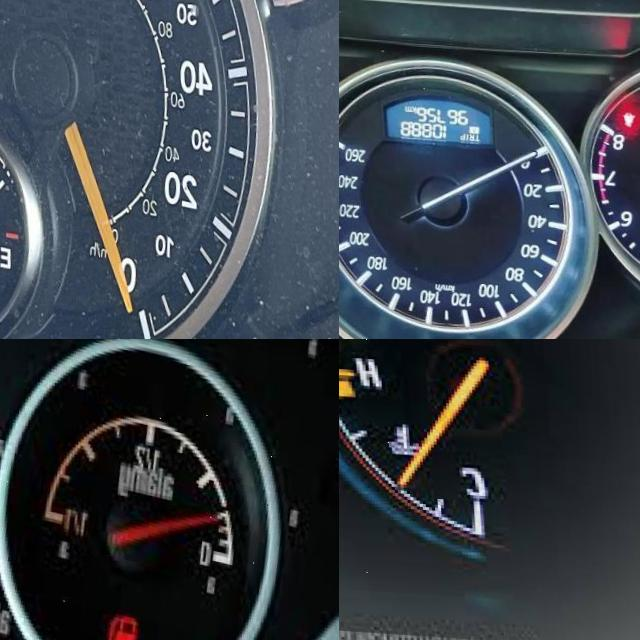Seat Belt: (618, 100, 635, 124)
